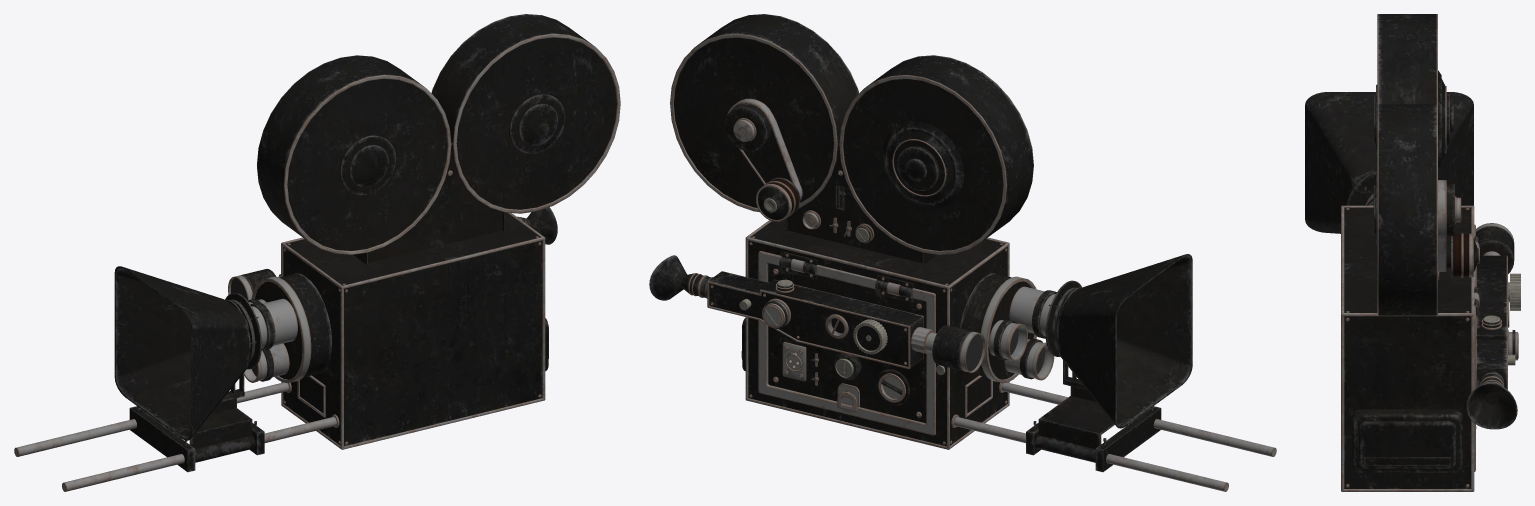
Rendered from 1930s_movie_camera.web.glb.
3 views of the same model, side by side, from view 1: azimuth 30°, elevation 25°; view 2: azimuth 150°, elevation 25°; view 3: azimuth 270°, elevation 25° (orthographic). The views are drawn at different scales.
Visible parts, largest first — view 1: Camera_BlackPlastic_0, Camera_Metal_0; view 2: Camera_BlackPlastic_0, Camera_Metal_0, Camera_Misc_0; view 3: Camera_BlackPlastic_0, Camera_Metal_0, Camera_Misc_0.
Boxes of the visible parts, bbox=[...] form: Camera_BlackPlastic_0: bbox=[114, 14, 616, 472]; Camera_Metal_0: bbox=[14, 14, 620, 491]; Camera_BlackPlastic_0: bbox=[649, 14, 1192, 472]; Camera_Metal_0: bbox=[670, 14, 1276, 491]; Camera_Misc_0: bbox=[739, 179, 1044, 377]; Camera_BlackPlastic_0: bbox=[1305, 14, 1517, 488]; Camera_Metal_0: bbox=[1341, 14, 1518, 491]; Camera_Misc_0: bbox=[1453, 234, 1520, 365].
Size of the model in its own units: 121 by 71.16 by 36.37.
3 materials, 3 textured.
